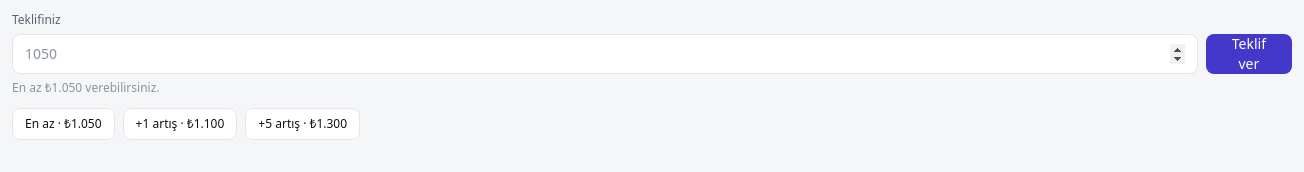
Scenario: BidForm › surfaces a failed invocation, such as bidding while disconnected
This screenshot has width=1304, height=172.
In the number field labelled "Teklifiniz": (605, 54) [12,34,1198,74], type "1200"
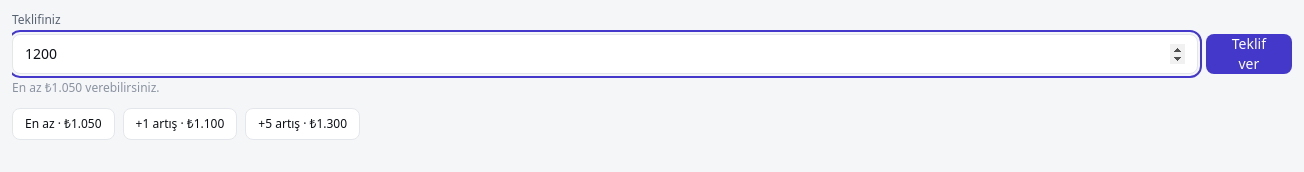
Click the button "Teklif ver": (1249, 54) [1206,34,1292,74]
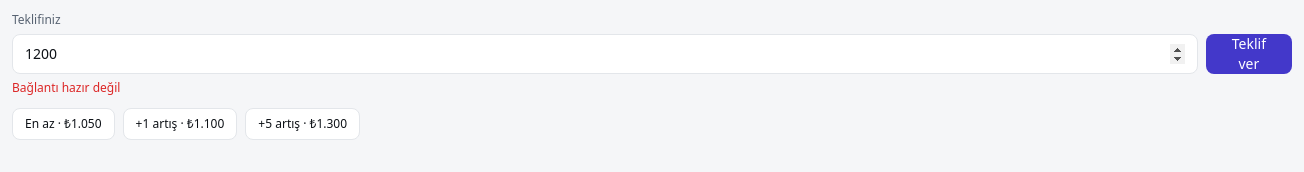
Now the text "Bağlantı hazır değil" is shown, box [12,79,120,96]
